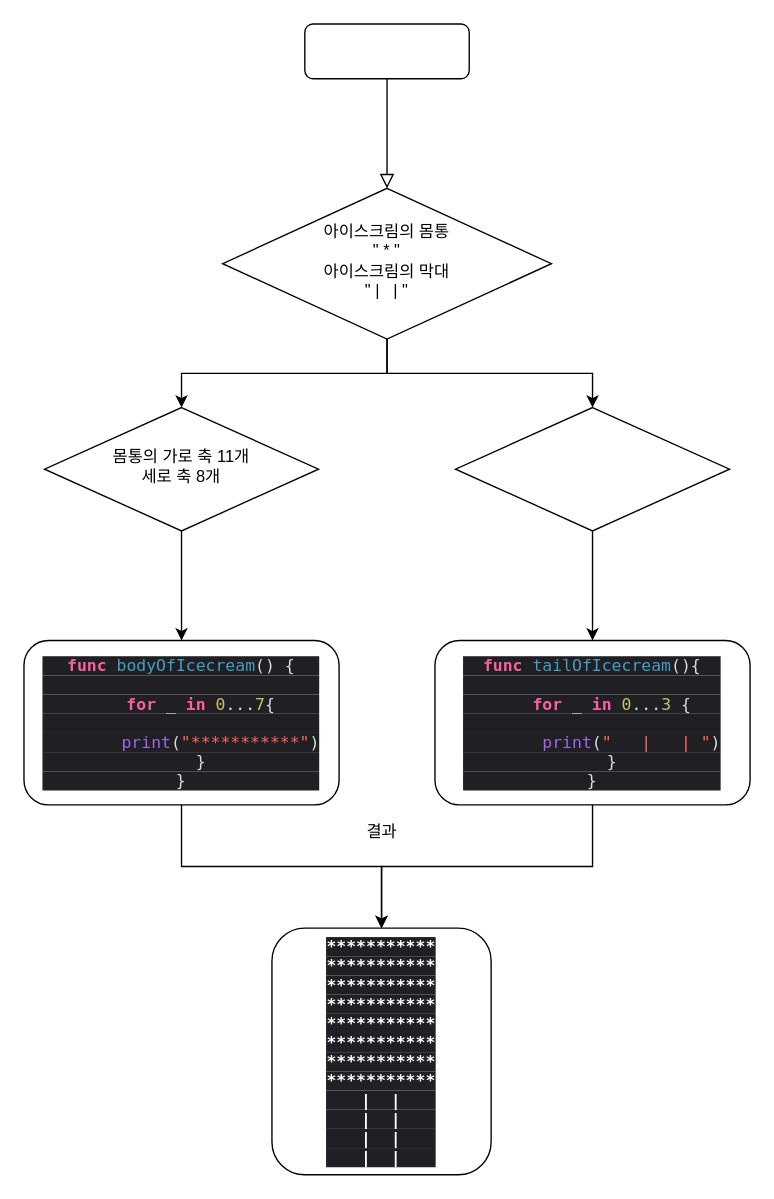
This 774x1199 diagram has some shape labels left out. Each missing label, with the centre of its shape:
막대의 가로 축 2개 세로 축 4개: point (592, 468)
아이스크림을 만들자: point (386, 51)
